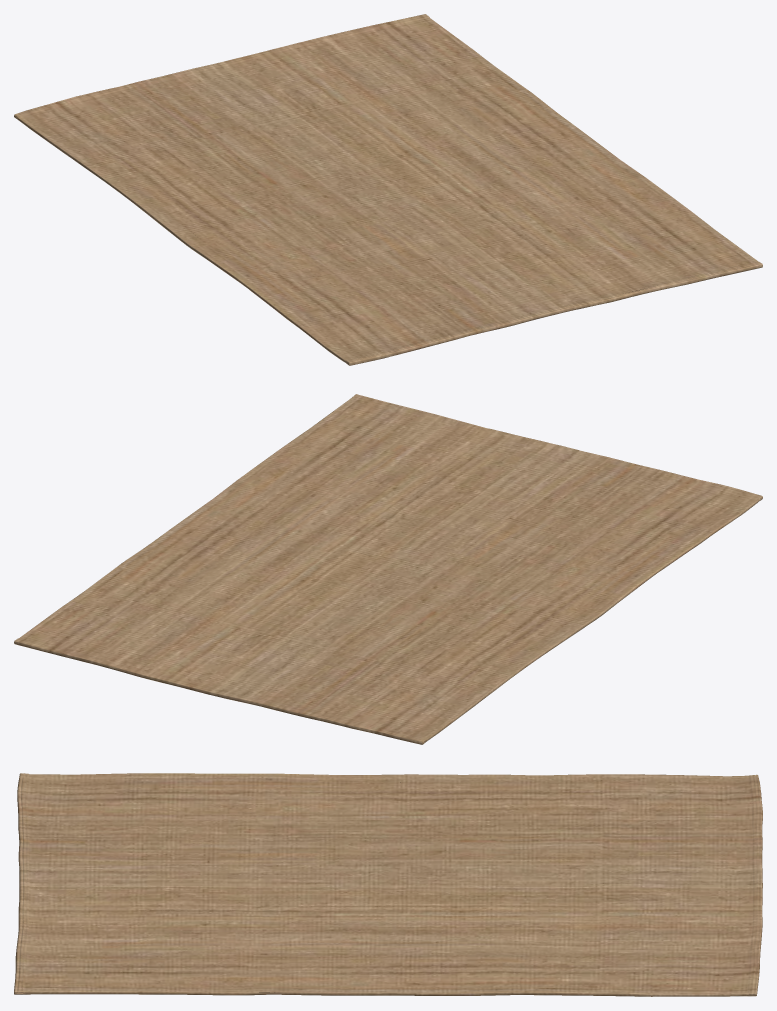
3 views of the same model, one above another, from view 1: azimuth 30°, elevation 25°; view 2: azimuth 150°, elevation 25°; view 3: azimuth 270°, elevation 25° (orthographic). The views are drawn at different scales.
Visible parts, largest first — view 1: Mesh_0; view 2: Mesh_0; view 3: Mesh_0.
Boxes of the visible parts, box(x1,y1,x2,y2) form: Mesh_0: box(14, 14, 762, 365); Mesh_0: box(14, 394, 762, 744); Mesh_0: box(14, 773, 762, 996).
Size of the model in its own units: 1.63 by 0.0194 by 2.33.
Materials: 1 (1 with a texture image).
